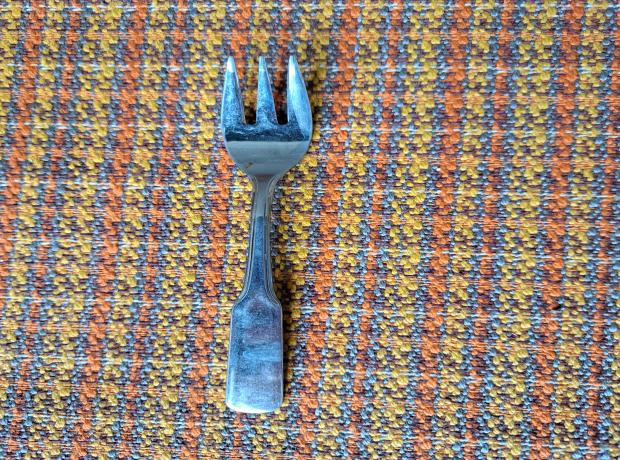metal: (215, 51, 318, 414)
